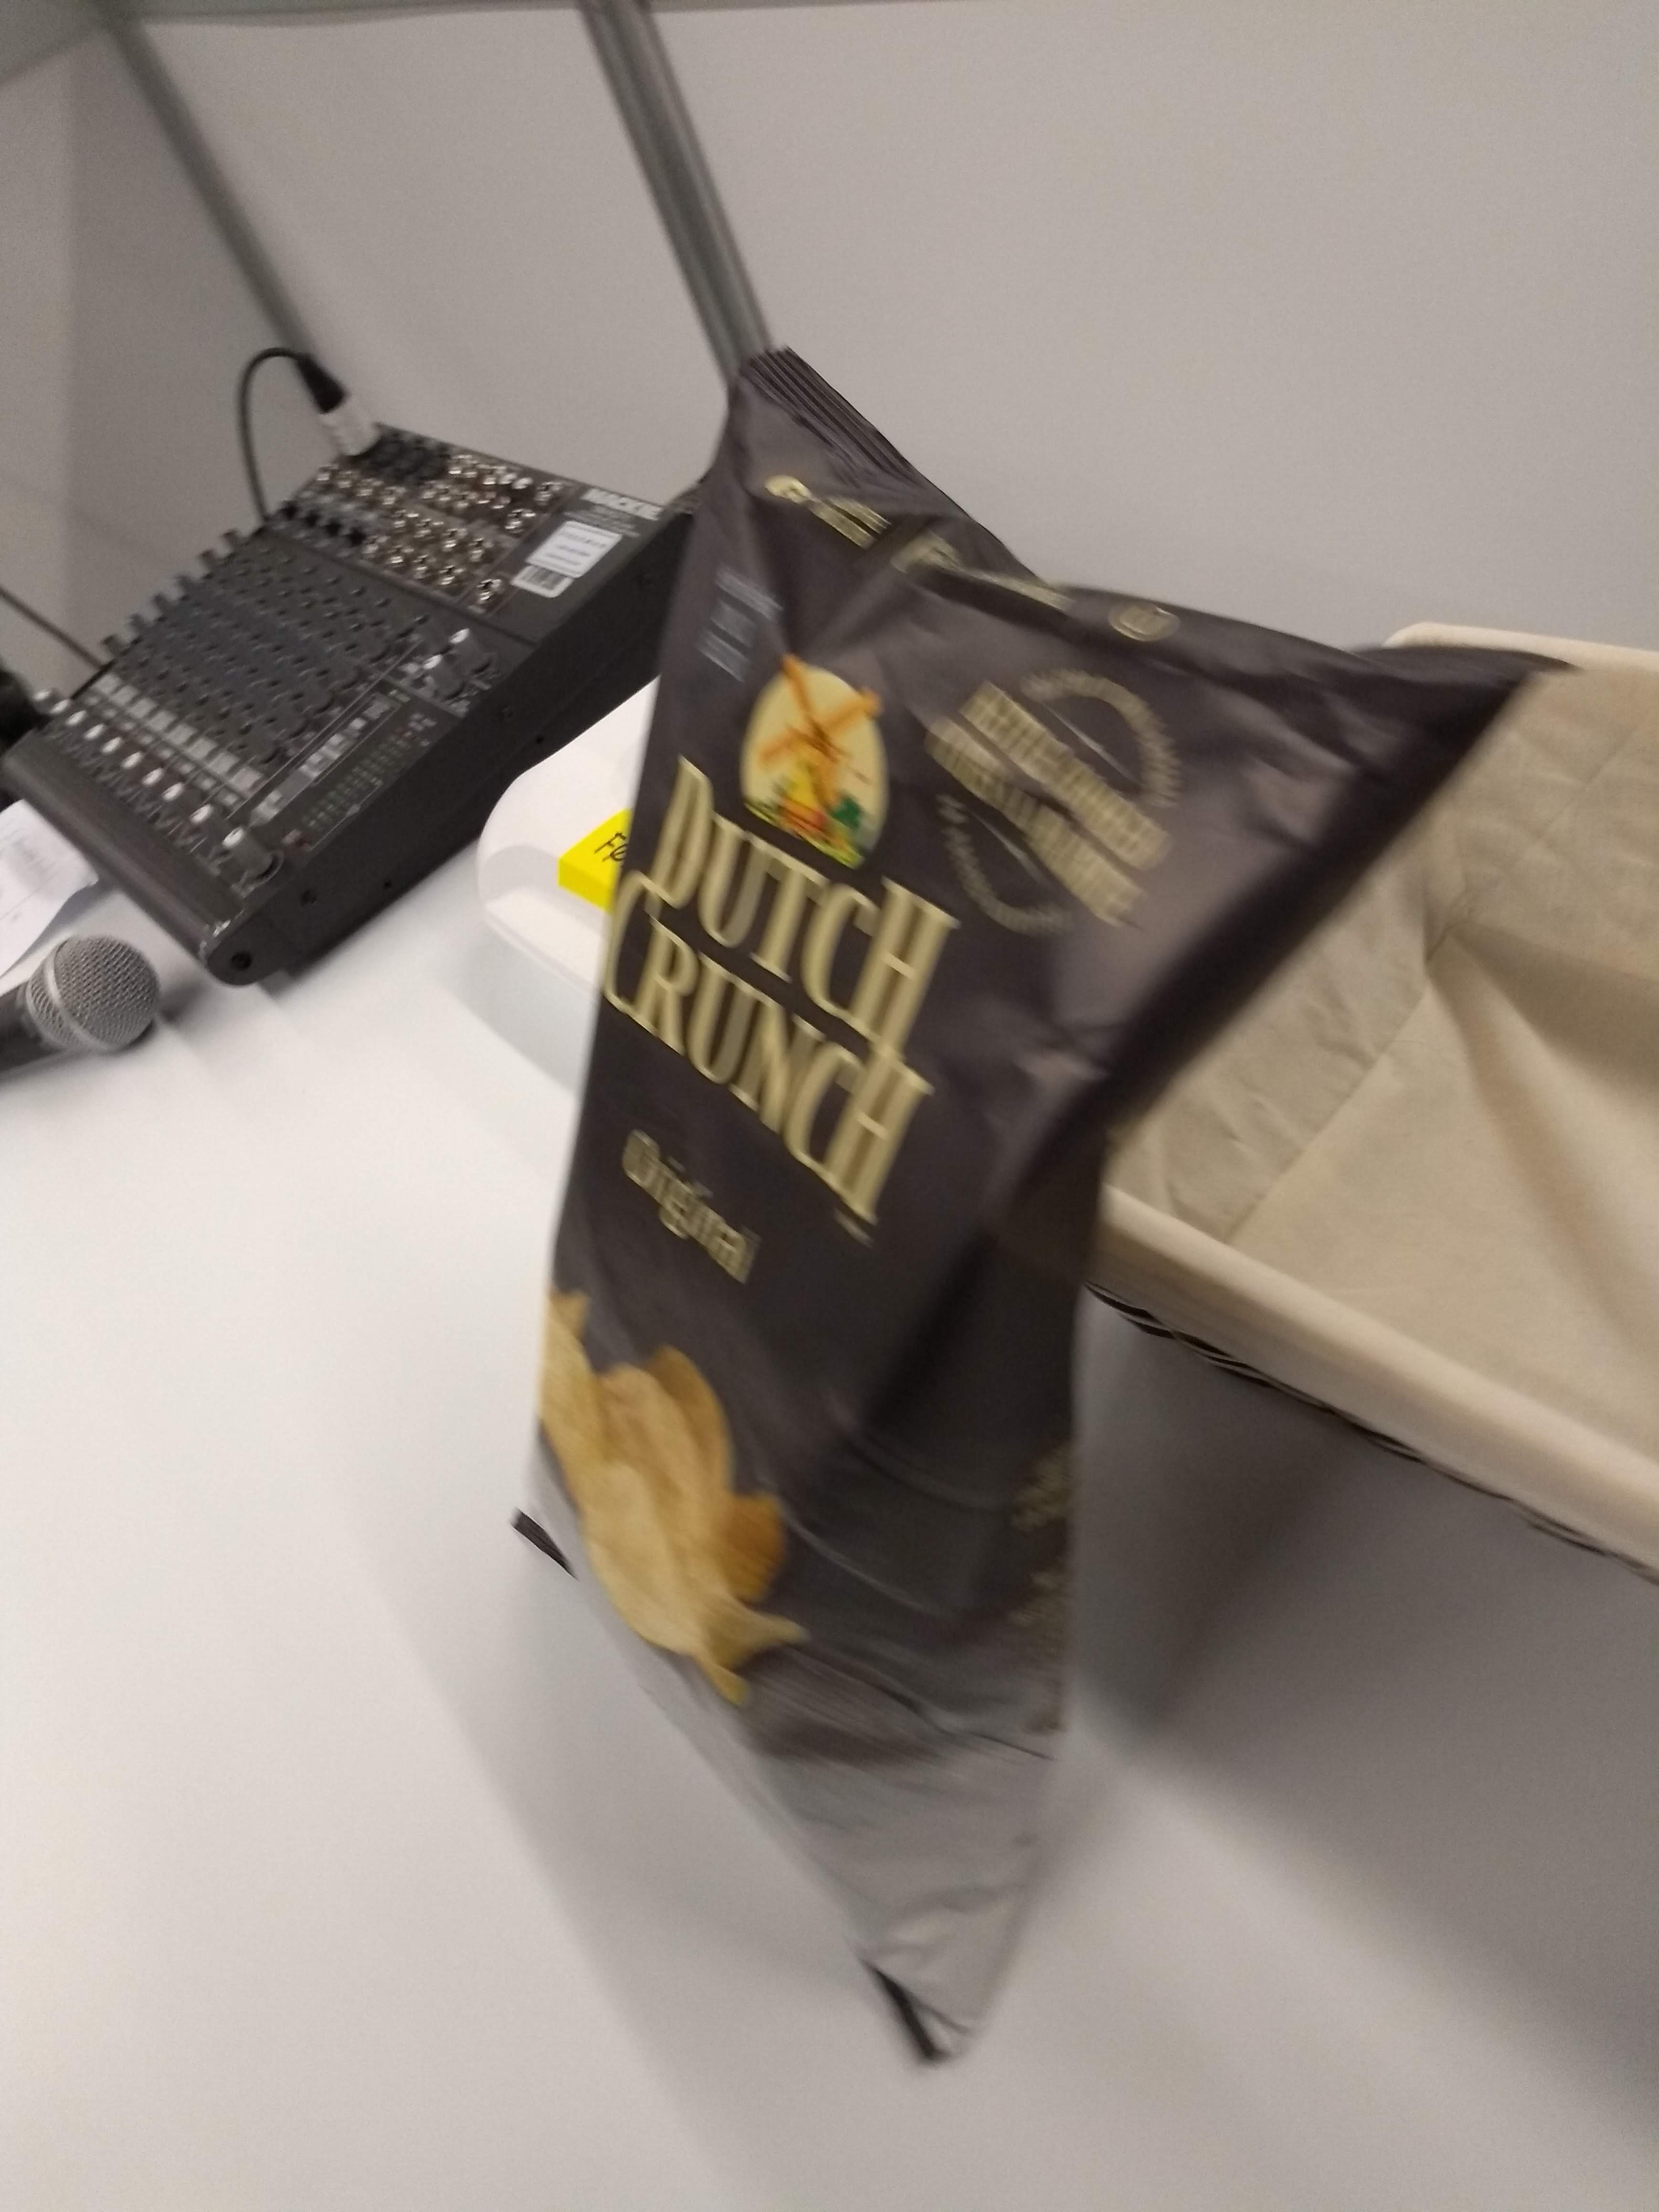potato_chips: (476, 333, 1581, 2076)
